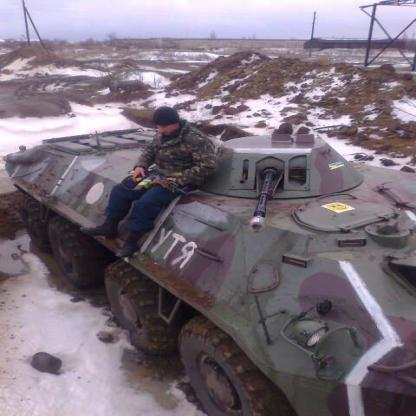MIL_IFV: (12, 123, 414, 416)
